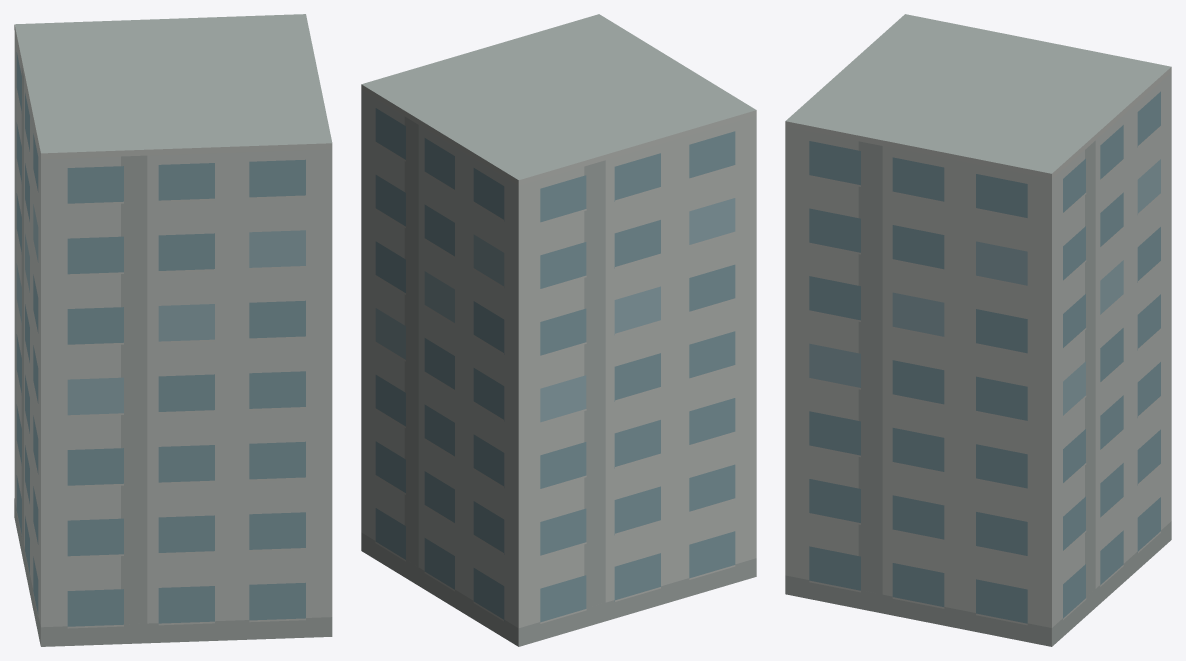
File: survey-upis-32633329.glb
3 renders of one model, left to right at view 1: azimuth 30°, elevation 25°; view 2: azimuth 150°, elevation 25°; view 3: azimuth 270°, elevation 25°, orthographic. The views are drawn at different scales.
Visible parts, largest first — view 1: survey-upis-32633329.tmp; view 2: survey-upis-32633329.tmp; view 3: survey-upis-32633329.tmp.
Part boxes in pixels (x1,y1,x2,y2): survey-upis-32633329.tmp: (14,14,332,646); survey-upis-32633329.tmp: (361,14,756,646); survey-upis-32633329.tmp: (785,14,1171,646).
Bounding box in the file's own units: 14.79 × 20.4 × 15.1.
